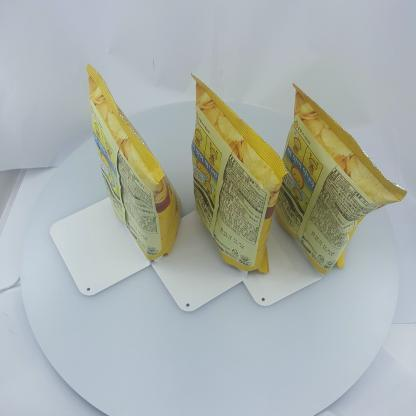Plastic Packaging: (75, 52, 185, 262), (285, 84, 397, 272), (192, 72, 280, 280)
